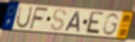A: (63, 11, 81, 34)
E: (84, 10, 105, 36)
F: (28, 6, 49, 30)
G: (102, 13, 120, 37)
S: (49, 8, 68, 33)
U: (15, 5, 34, 30)
